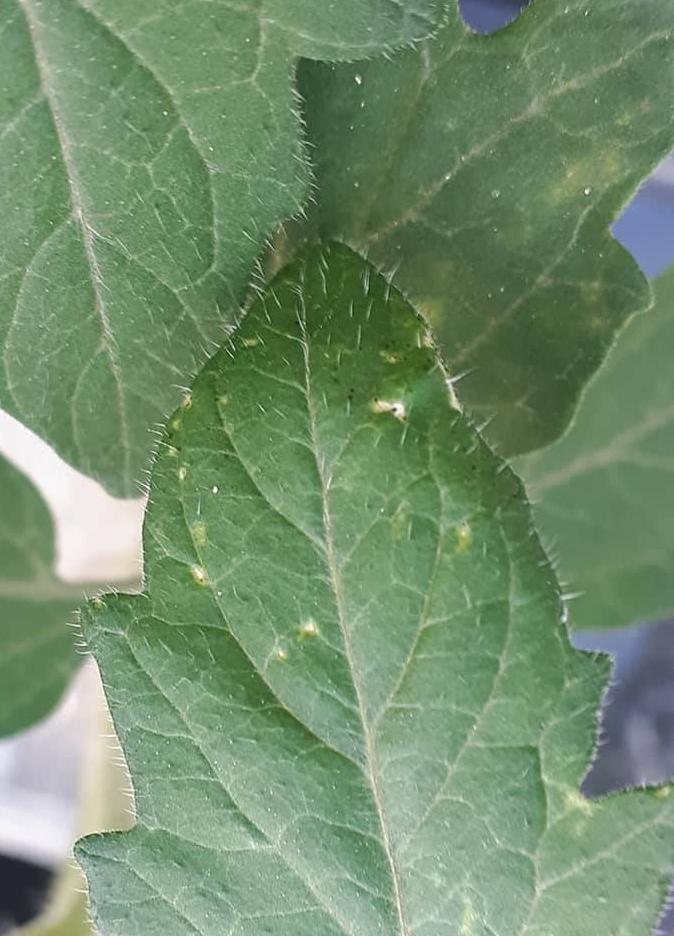Tomato mold leaf: (53, 219, 674, 936), (0, 0, 443, 535)
